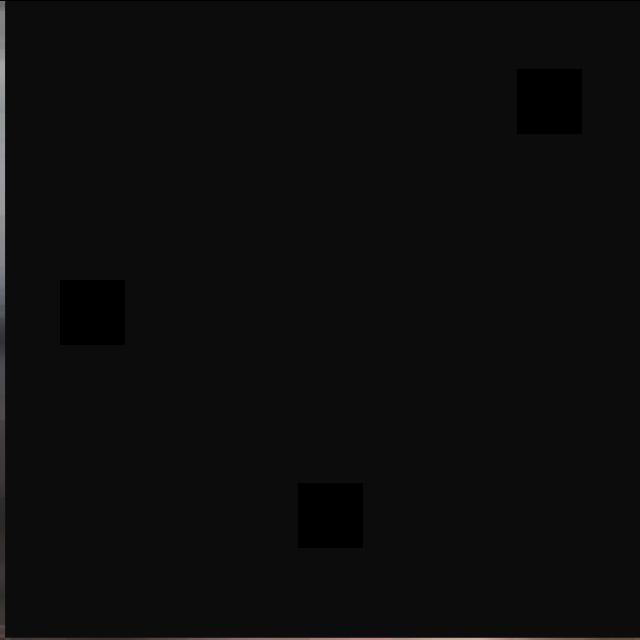smoke: (5, 0, 640, 637)
